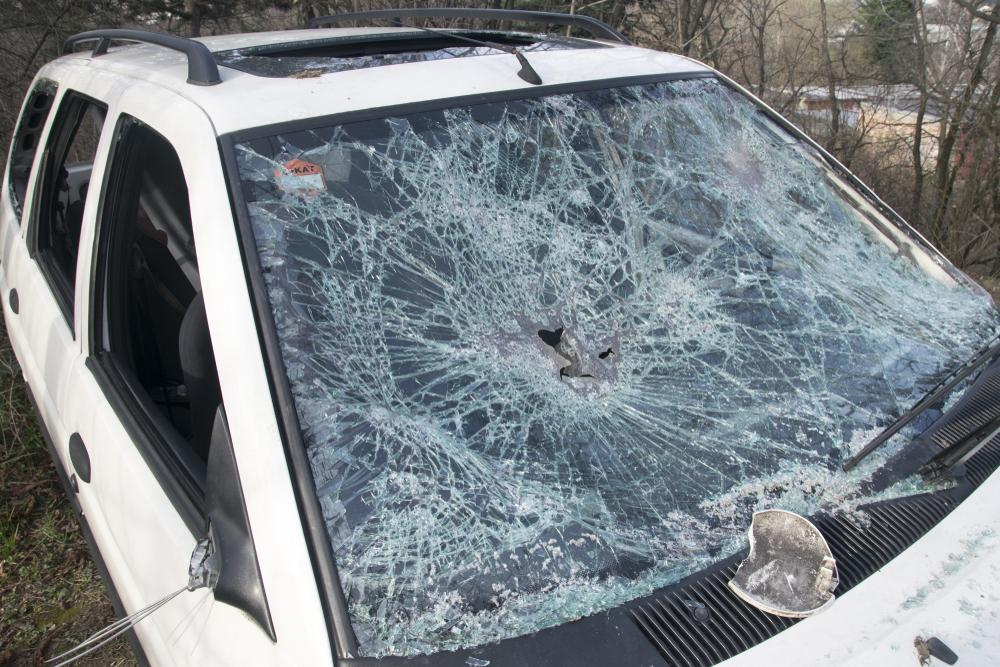glass shatter: (233, 75, 1000, 655)
